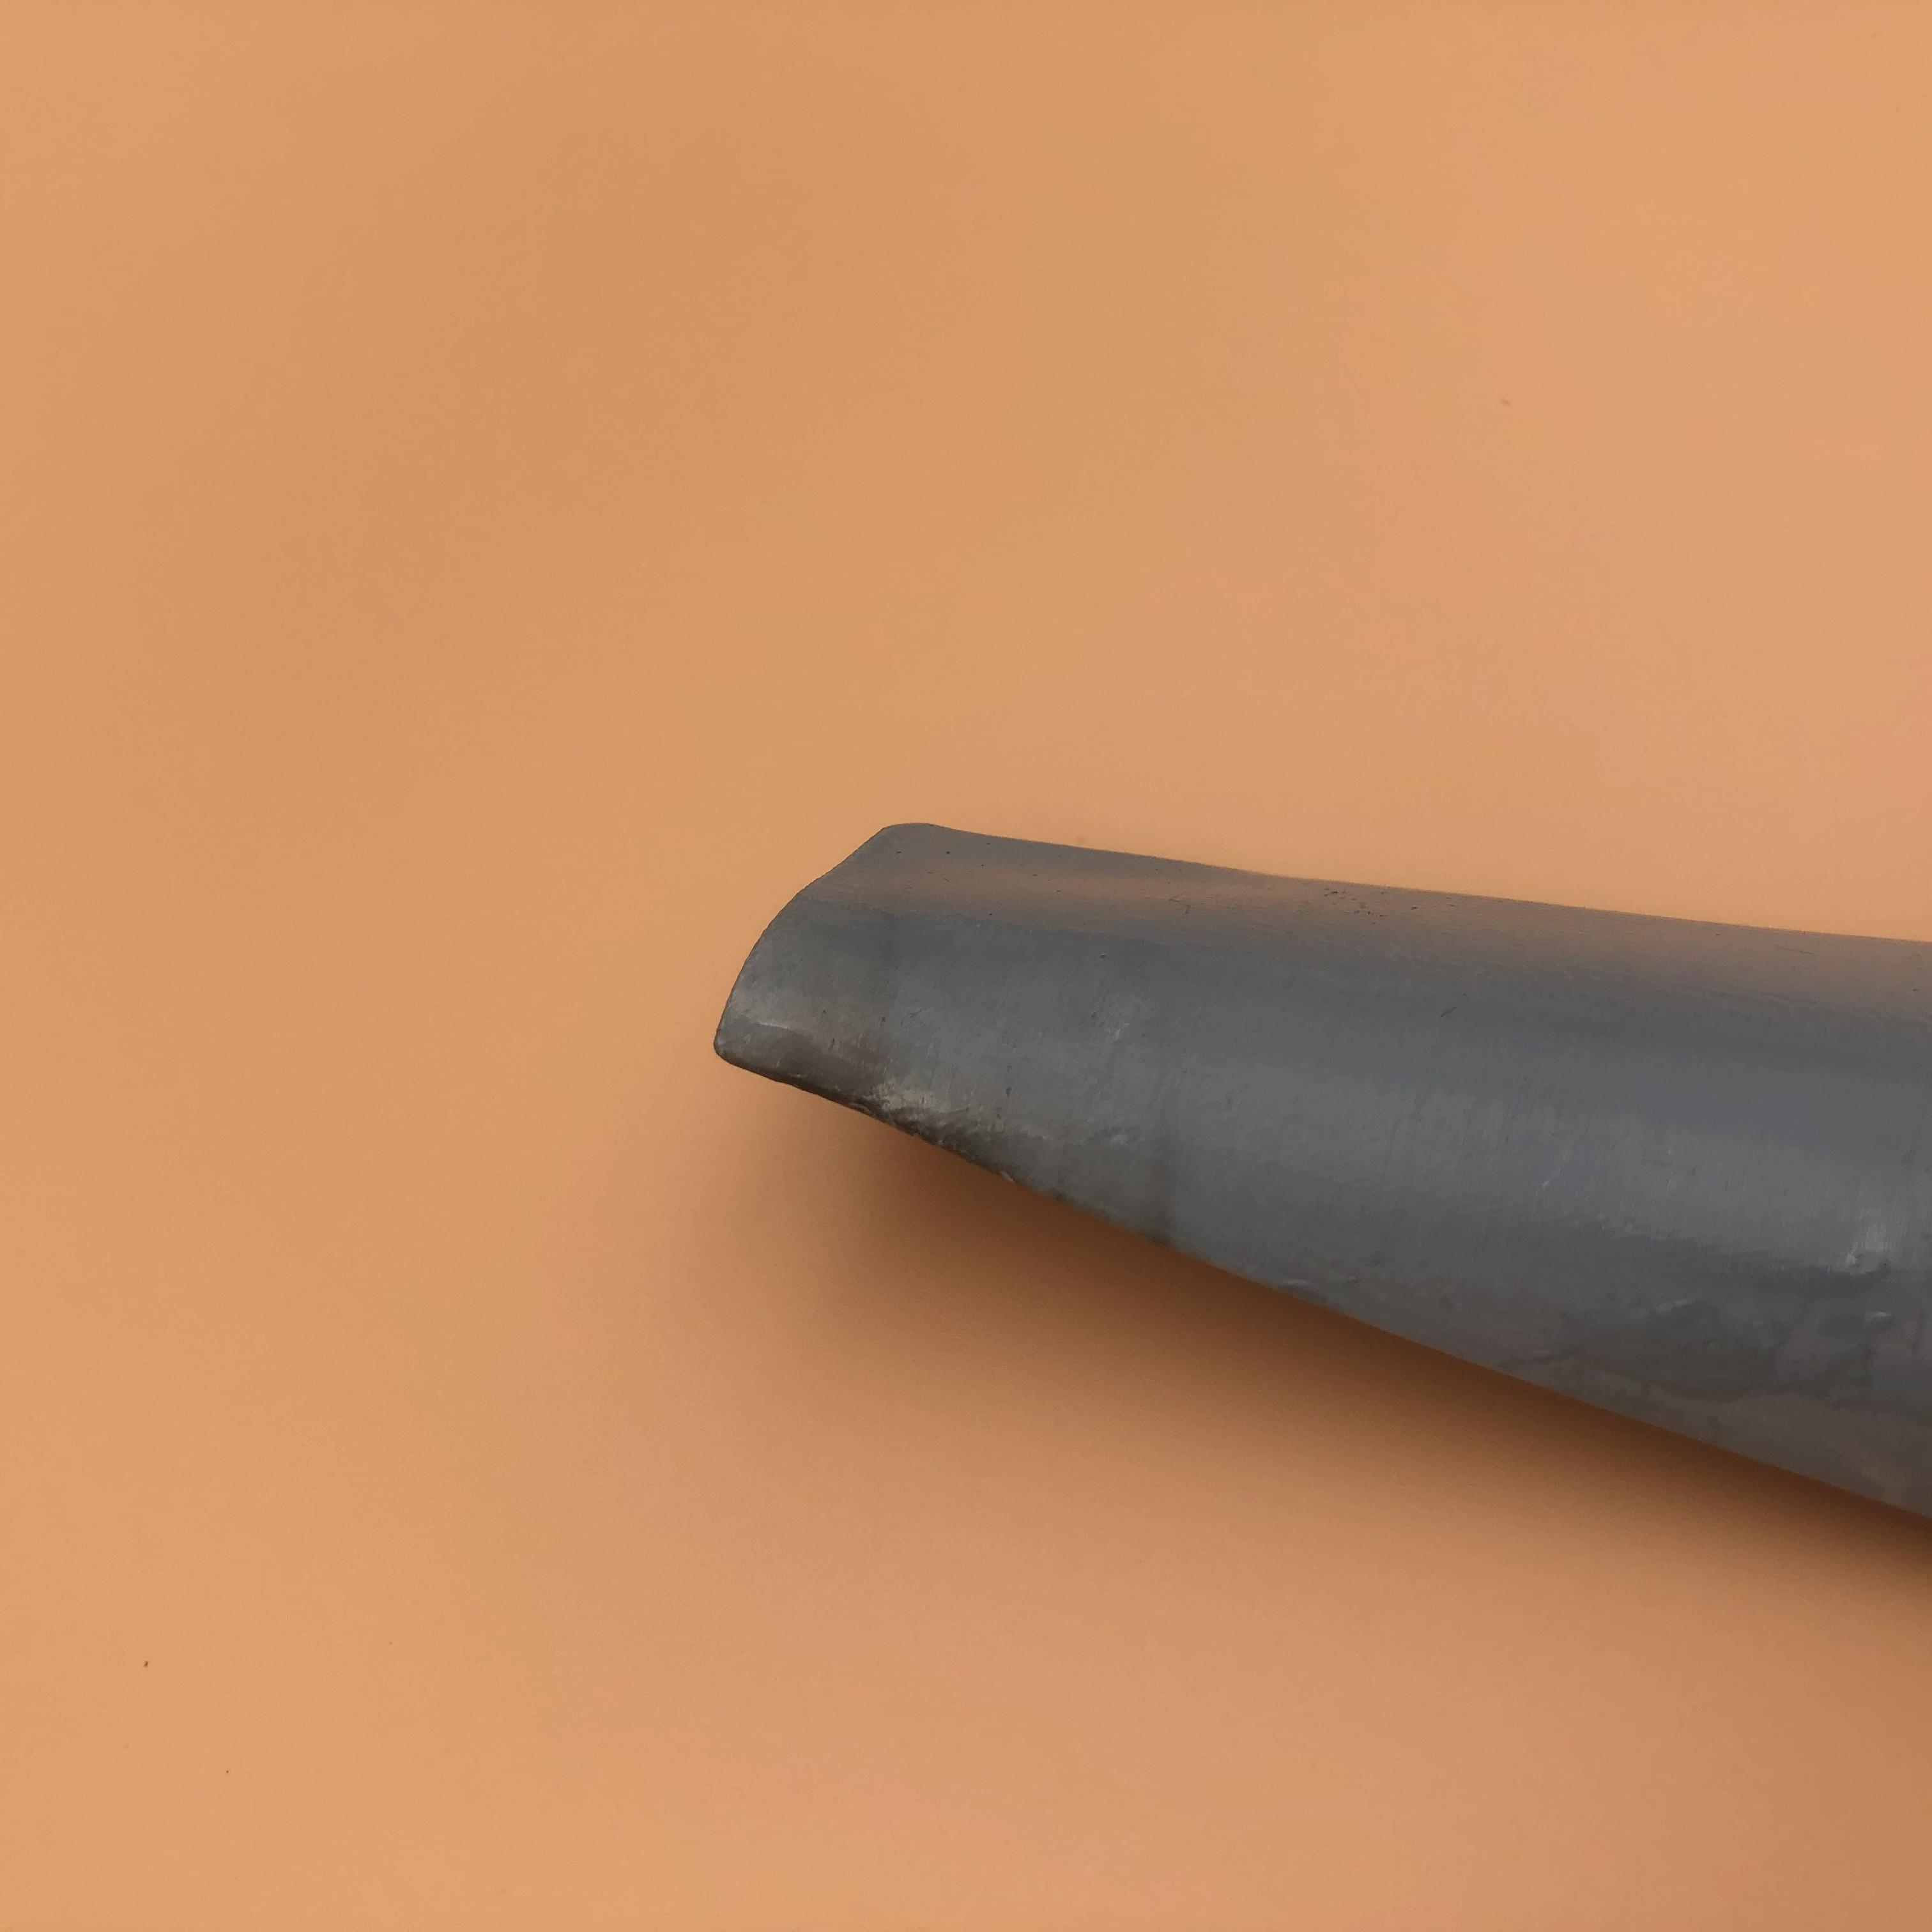ablation: (722, 941, 1037, 1166)
